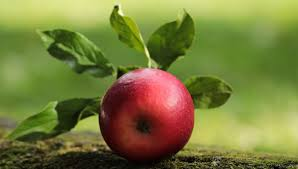apple: (97, 68, 195, 162)
